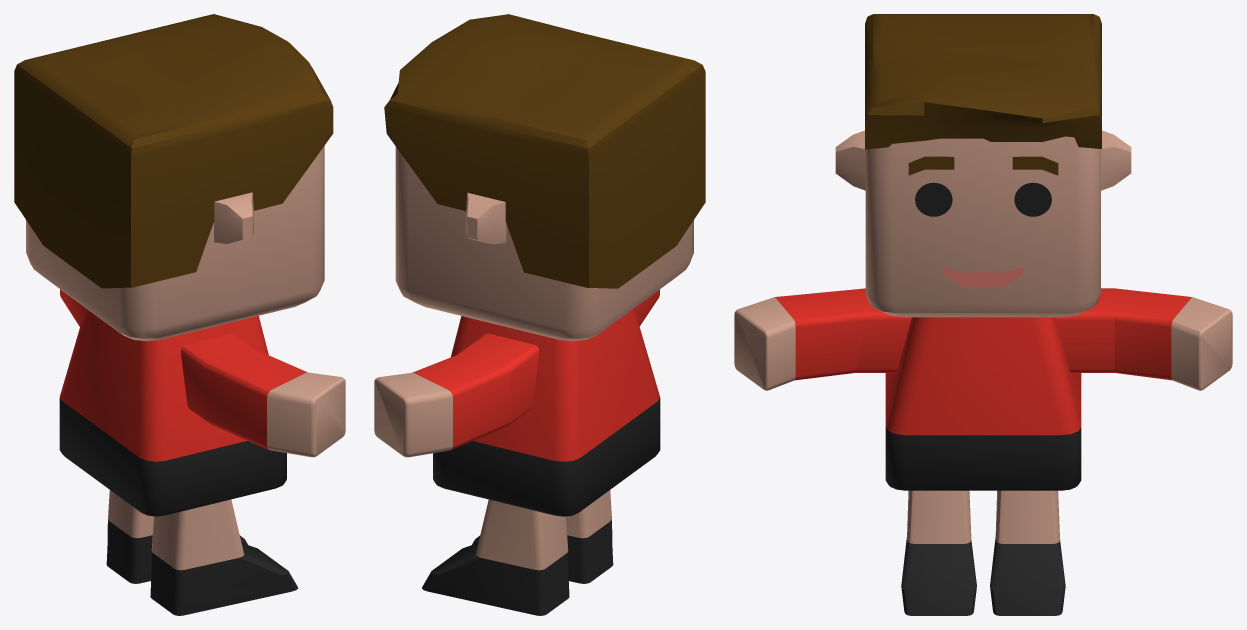
File: Personaje[1].fbx
3 renders of one model, left to right at view 1: azimuth 30°, elevation 25°; view 2: azimuth 150°, elevation 25°; view 3: azimuth 270°, elevation 25°, orthographic.
Parts seen in each view (by area): view 1: Peinado [T1].001, Cuerpo.002, Cabeza.001, Mano [1].001, Pierna[1].001, Pierna[2].001, Oreja [T1].001; view 2: Peinado [T1].001, Cuerpo.002, Cabeza.001, Mano [2].001, Pierna[2].001, Pierna[1].001, Oreja [T1].001; view 3: Cabeza.001, Cuerpo.002, Peinado [T1].001, Mano [2].001, Mano [1].001, Pierna[1].001, Pierna[2].001, Oreja [T1].001, Ojos [T1].001, Cejas [T1].001, Boca [T1].001.
Part boxes in pixels (x1=…): Peinado [T1].001: x1=14, y1=14, x2=333, y2=288; Cuerpo.002: x1=59, y1=308, x2=286, y2=516; Cabeza.001: x1=26, y1=146, x2=324, y2=341; Mano [1].001: x1=181, y1=333, x2=345, y2=457; Pierna[1].001: x1=150, y1=499, x2=298, y2=615; Pierna[2].001: x1=106, y1=490, x2=247, y2=583; Oreja [T1].001: x1=214, y1=192, x2=253, y2=243; Peinado [T1].001: x1=384, y1=14, x2=705, y2=288; Cuerpo.002: x1=433, y1=308, x2=660, y2=516; Cabeza.001: x1=395, y1=146, x2=693, y2=341; Mano [2].001: x1=374, y1=333, x2=539, y2=457; Pierna[2].001: x1=422, y1=499, x2=569, y2=615; Pierna[1].001: x1=472, y1=490, x2=613, y2=583; Oreja [T1].001: x1=466, y1=192, x2=506, y2=244; Cabeza.001: x1=865, y1=136, x2=1100, y2=317; Cuerpo.002: x1=885, y1=317, x2=1081, y2=490; Peinado [T1].001: x1=865, y1=14, x2=1101, y2=149; Mano [2].001: x1=1055, y1=288, x2=1232, y2=390; Mano [1].001: x1=734, y1=288, x2=911, y2=390; Pierna[1].001: x1=901, y1=490, x2=976, y2=615; Pierna[2].001: x1=990, y1=490, x2=1065, y2=615; Oreja [T1].001: x1=835, y1=130, x2=1131, y2=190; Ojos [T1].001: x1=915, y1=182, x2=1051, y2=216; Cejas [T1].001: x1=908, y1=156, x2=1058, y2=175; Boca [T1].001: x1=943, y1=267, x2=1023, y2=287.
Bounding box in the file's own units: 144 × 328 × 281.
